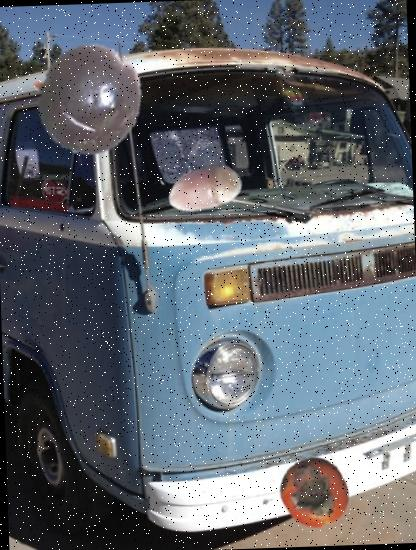Hazelnut: (166, 148, 246, 228)
Kaki: (277, 455, 353, 531)
Passion: (28, 39, 147, 158)
